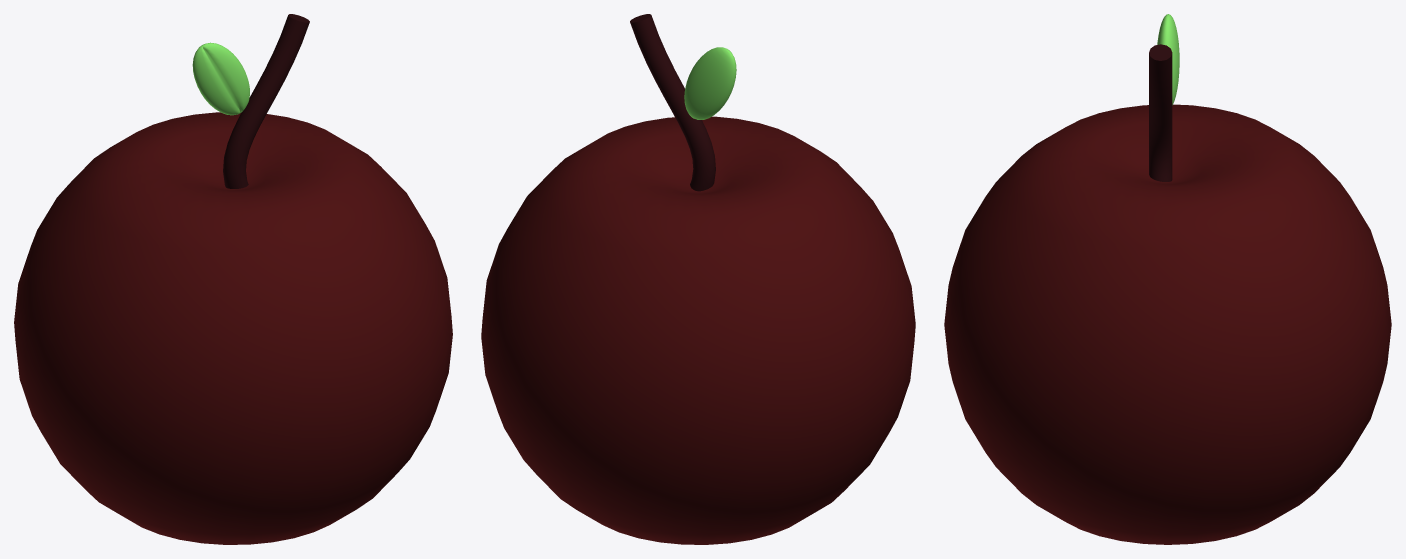
3 renders of one model, left to right at view 1: azimuth 30°, elevation 25°; view 2: azimuth 150°, elevation 25°; view 3: azimuth 270°, elevation 25°, orthographic. The views are drawn at different scales.
Visible parts, largest first — view 1: Sphere, BezierCurve, Sphere.001; view 2: Sphere, BezierCurve, Sphere.001; view 3: Sphere, BezierCurve, Sphere.001.
Part boxes in pixels (<box>): Sphere: <box>14,112,452,544</box>; BezierCurve: <box>223,14,309,188</box>; Sphere.001: <box>192,42,249,115</box>; Sphere: <box>481,116,915,544</box>; BezierCurve: <box>630,14,715,191</box>; Sphere.001: <box>684,47,736,119</box>; Sphere: <box>944,104,1391,544</box>; BezierCurve: <box>1149,44,1172,181</box>; Sphere.001: <box>1157,14,1179,105</box>.
Size of the model in its own units: 0.1553 by 0.1826 by 0.1553.
